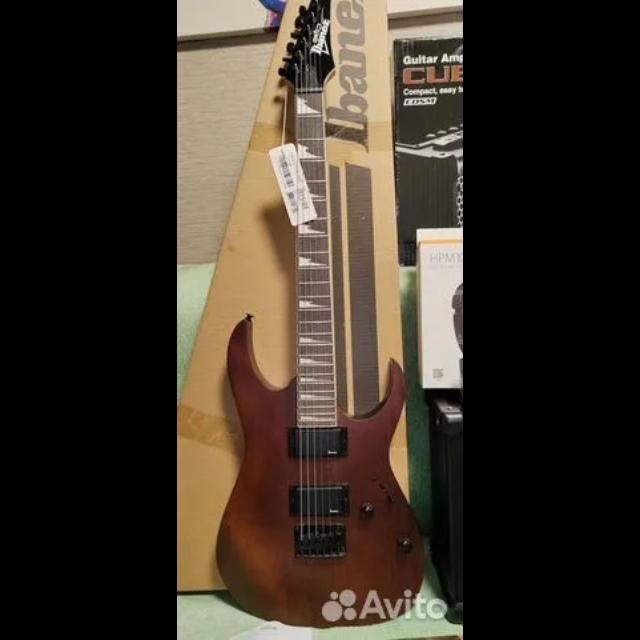Electric-Guitar: (216, 0, 424, 626)
